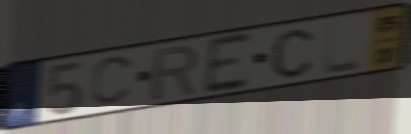5: (44, 58, 86, 118)
C: (88, 53, 138, 109), (270, 27, 315, 80)
E: (202, 29, 255, 98)
L: (323, 18, 362, 77)
R: (149, 43, 202, 103)
